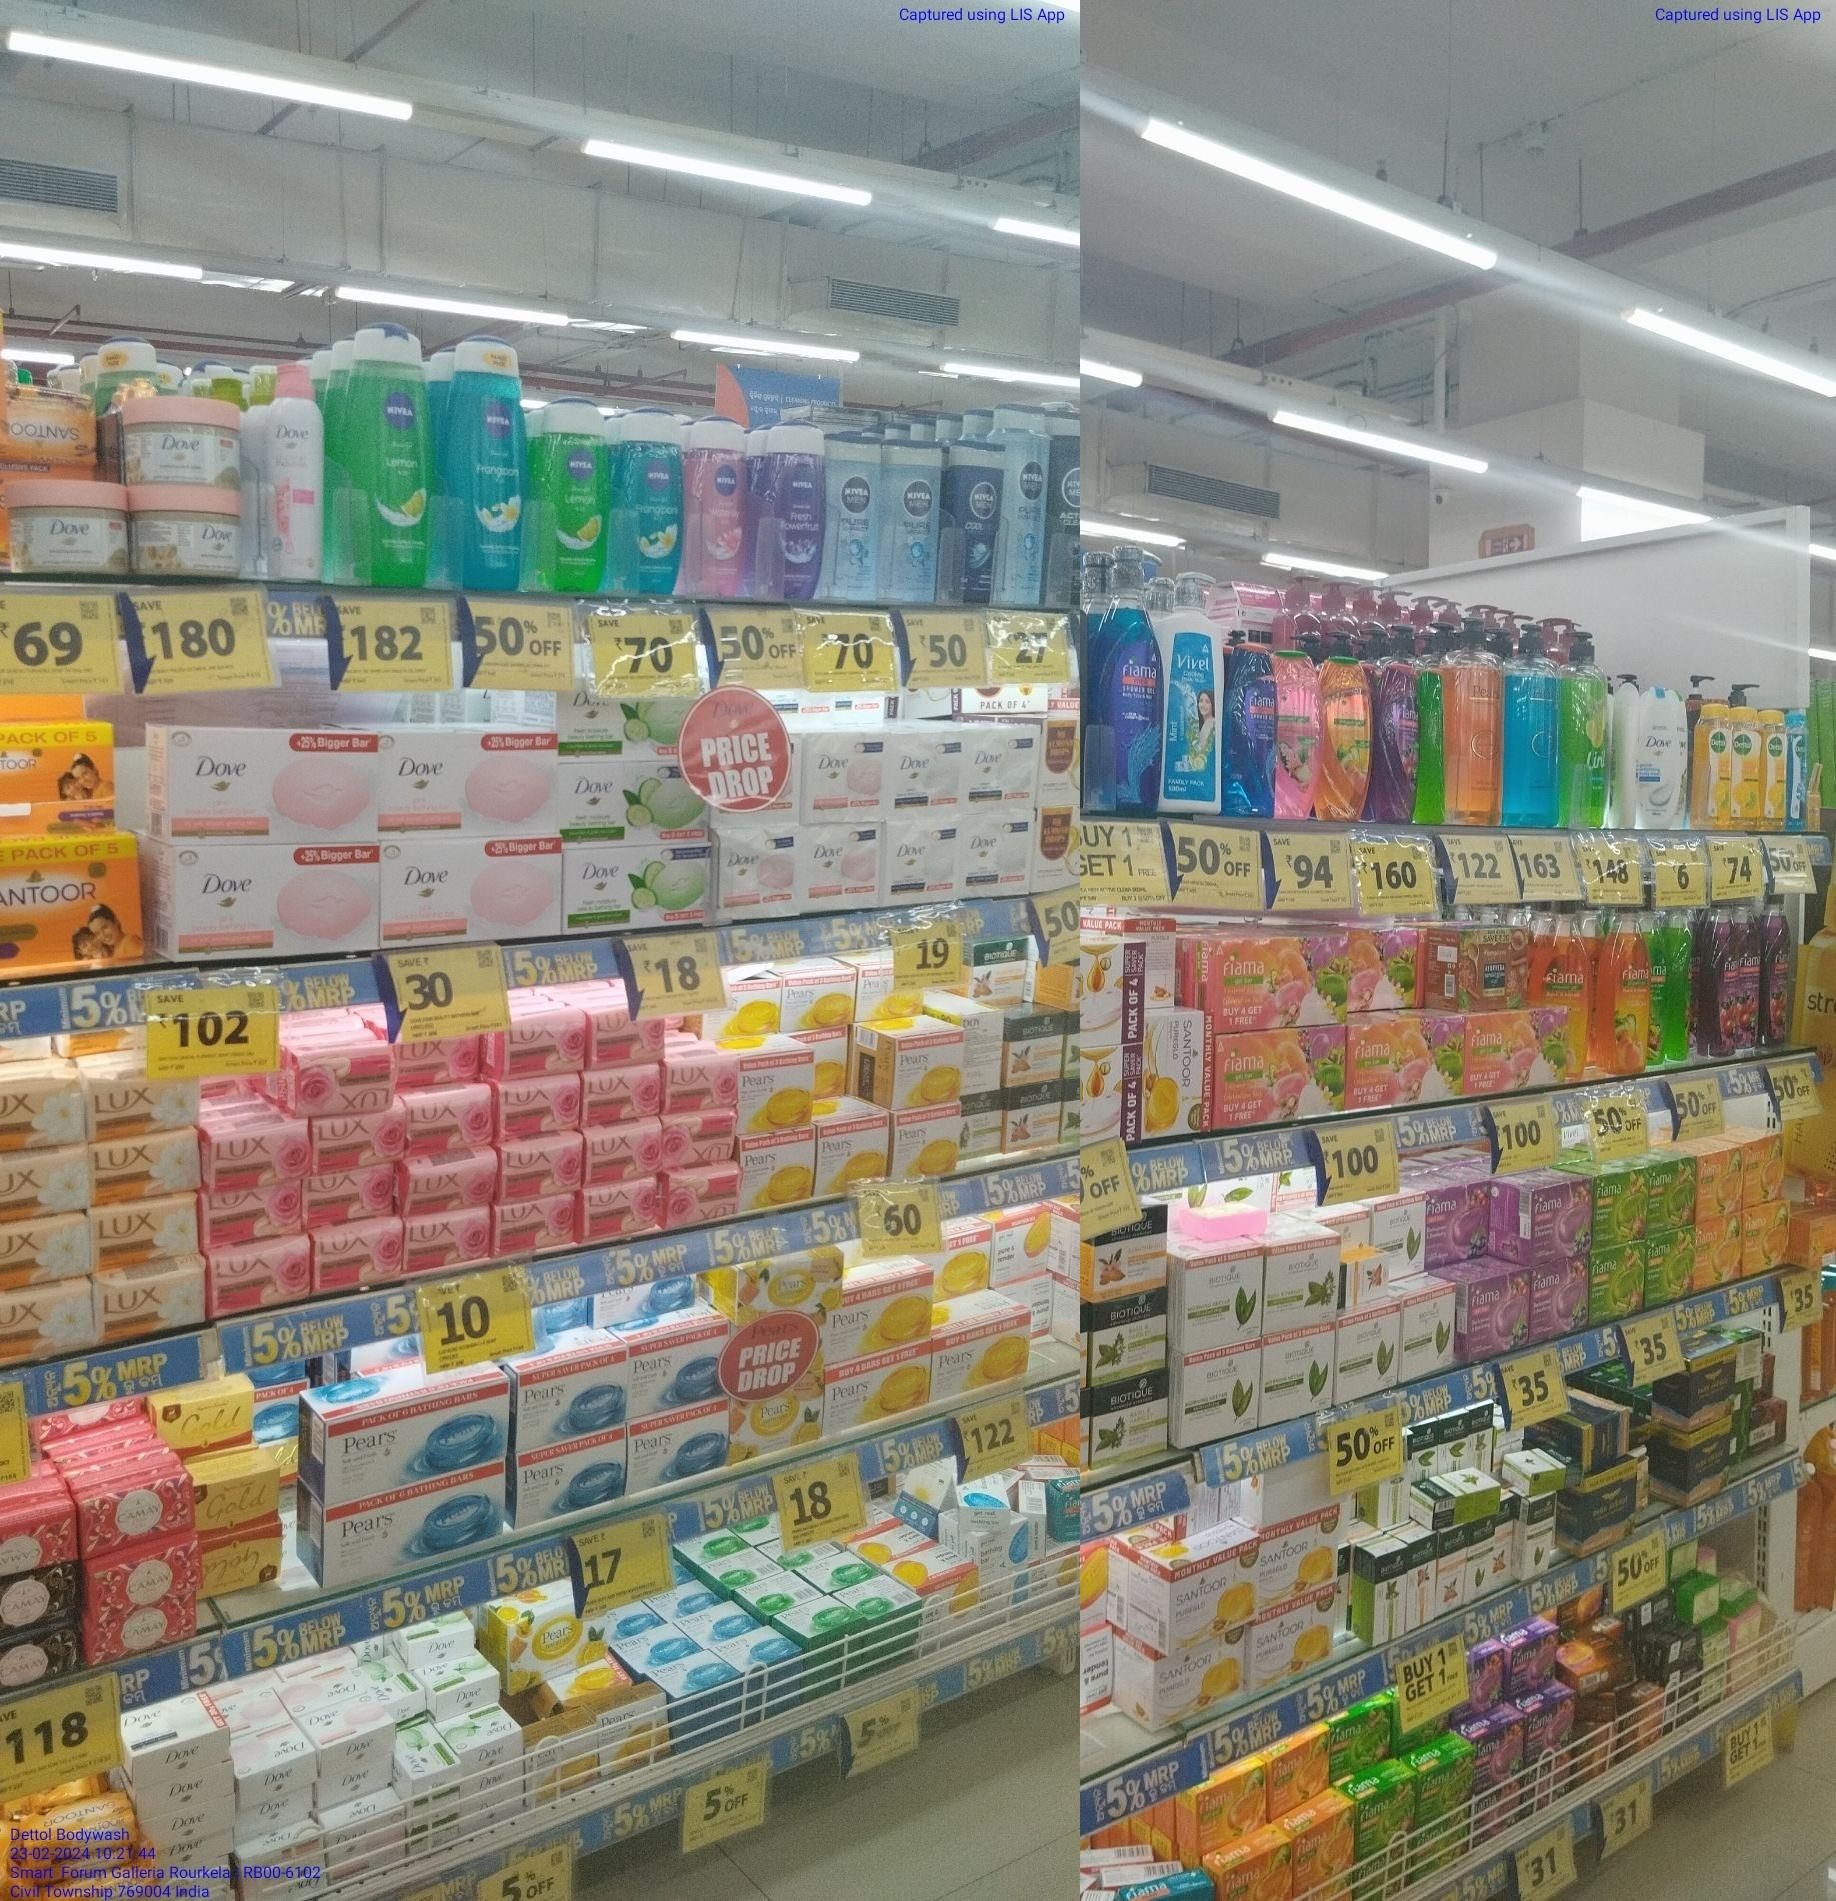Dettol_Bodywash_Refresh: (1697, 704, 1734, 828), (1732, 704, 1763, 828), (1765, 711, 1790, 832)
Dove_Deep_Moisture_Body_Wash_250ML: (1641, 686, 1682, 830)
Fiama_Shower_Gel_Patchouli_and_Macadamia_250ML: (1274, 652, 1318, 823)
Fiama_Shower_Gel_Peach_and_Avocado_250ML: (1320, 650, 1369, 820)
Nivea_Shower_Gel_Frangipani_and_Oil_250ML: (453, 331, 529, 589), (624, 409, 687, 596)
Nivea_Shower_Gel_Fresh_Powerfruit_250ML: (765, 424, 826, 599)
Nivea_Shower_Gel_Lemon_and_Oil_250ML: (353, 317, 438, 587), (546, 390, 609, 592)
Nivea_Shower_Gel_Waterlily_and_Oil_250ML: (691, 409, 752, 601)
